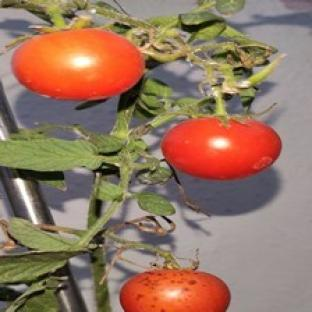Tomato: (12, 28, 144, 100), (162, 117, 281, 179), (120, 269, 231, 311)
